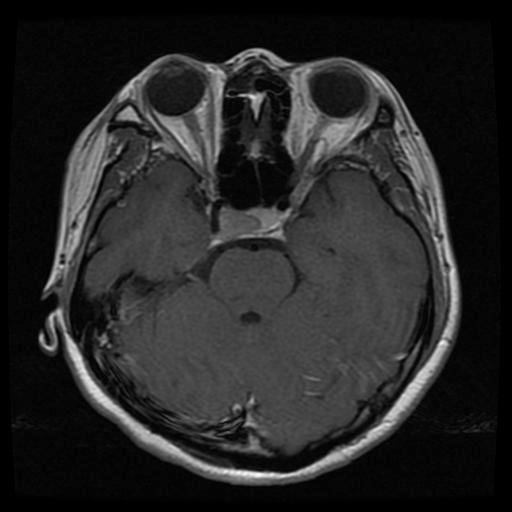Tumour-Pituitary: (208, 208, 299, 251)
